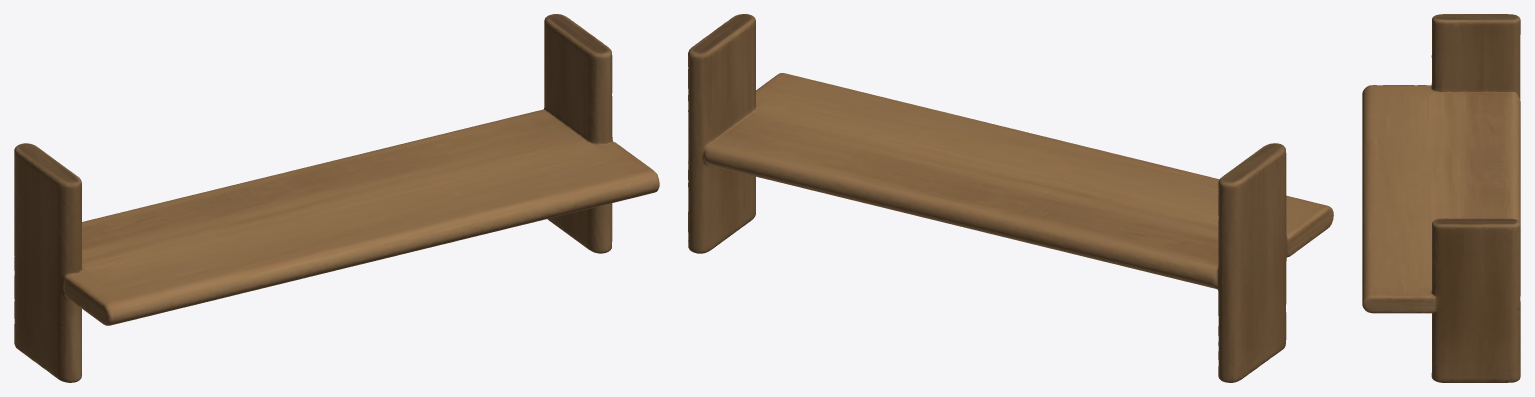
The model's file is trellis_brut.glb.
3 views of the same model, side by side, from view 1: azimuth 30°, elevation 25°; view 2: azimuth 150°, elevation 25°; view 3: azimuth 270°, elevation 25° (orthographic). The views are drawn at different scales.
Visible parts, largest first — view 1: world; view 2: world; view 3: world.
Part boxes in pixels (x1=…): world: x1=14, y1=14, x2=659, y2=382; world: x1=688, y1=14, x2=1333, y2=382; world: x1=1362, y1=14, x2=1520, y2=382.
Bounding box in the file's own units: 1 × 0.3484 × 0.3158.
Materials: 1 (1 with a texture image).
